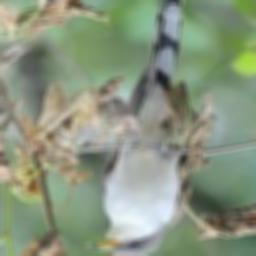Cuckoo: (86, 0, 190, 256)
